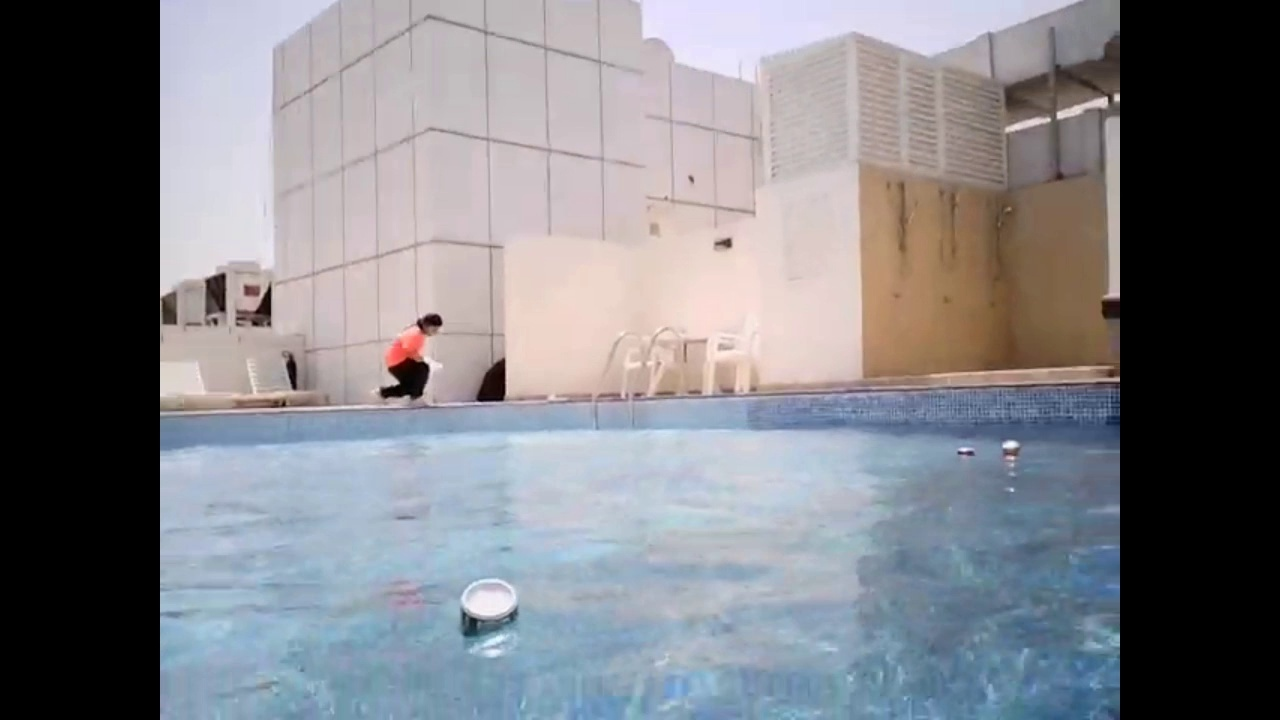debris: (450, 565, 521, 656), (998, 436, 1022, 463), (953, 443, 978, 463)
